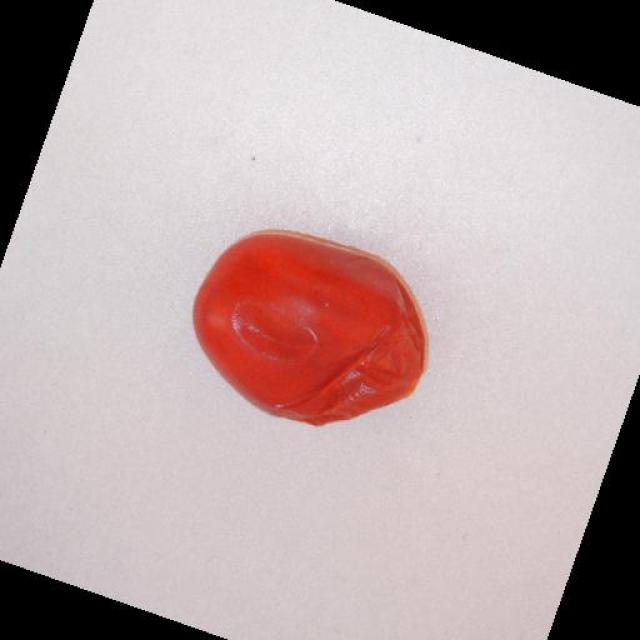Stale_tomato: (190, 206, 460, 438)
